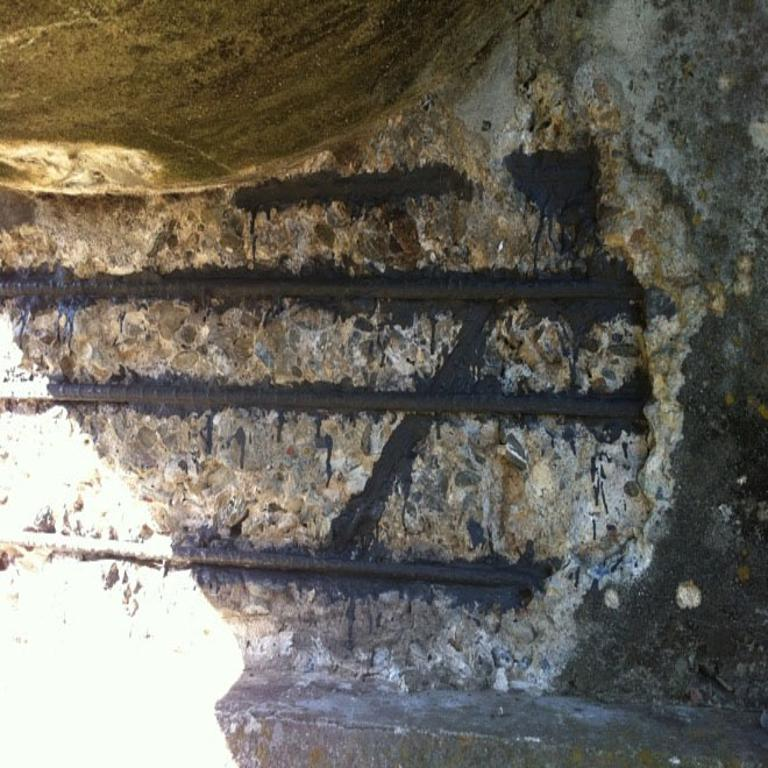exposed_rebar: (1, 270, 648, 597), (232, 164, 472, 213), (502, 147, 598, 250)
spalling: (1, 57, 702, 609)
